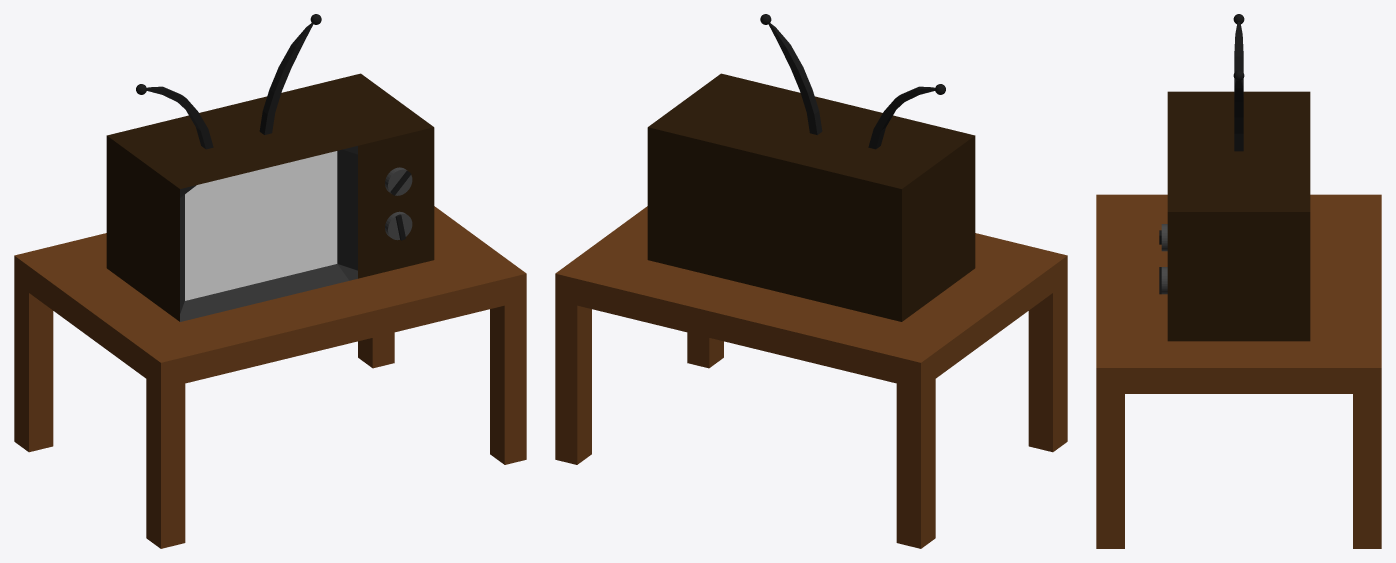
File: télévision.fbx
The picture shows the model from 3 angles, left to right: view 1: azimuth 30°, elevation 25°; view 2: azimuth 150°, elevation 25°; view 3: azimuth 270°, elevation 25°; orthographic projection. The views are drawn at different scales.
Visible parts, largest first — view 1: Cube; view 2: Cube; view 3: Cube.
Part boxes in pixels (<box>): Cube: <box>14,14,526,548</box>; Cube: <box>555,14,1067,548</box>; Cube: <box>1096,14,1381,548</box>.
Bounding box in the file's own units: 346 × 384 × 240.
